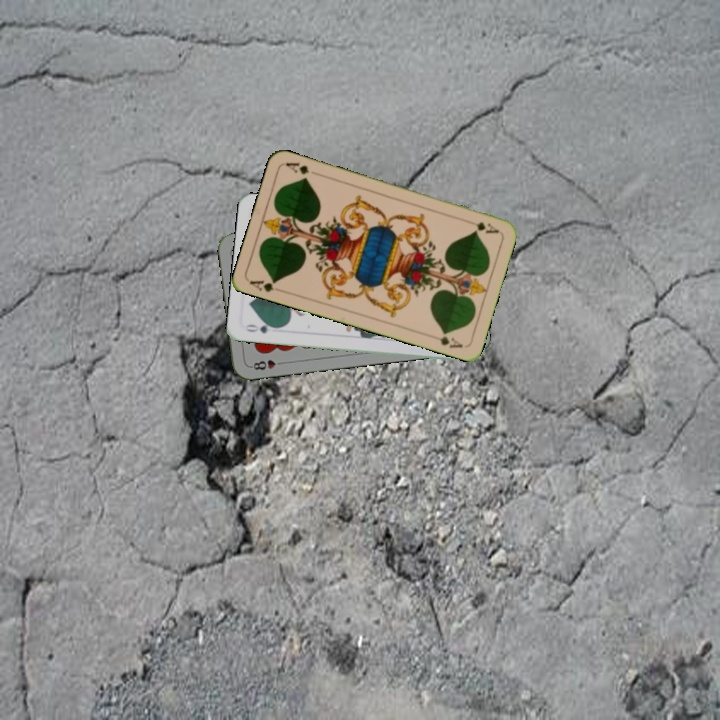GA: (246, 276, 279, 295), (471, 218, 501, 236)
GO: (241, 319, 282, 336)
H8: (247, 356, 287, 373)
